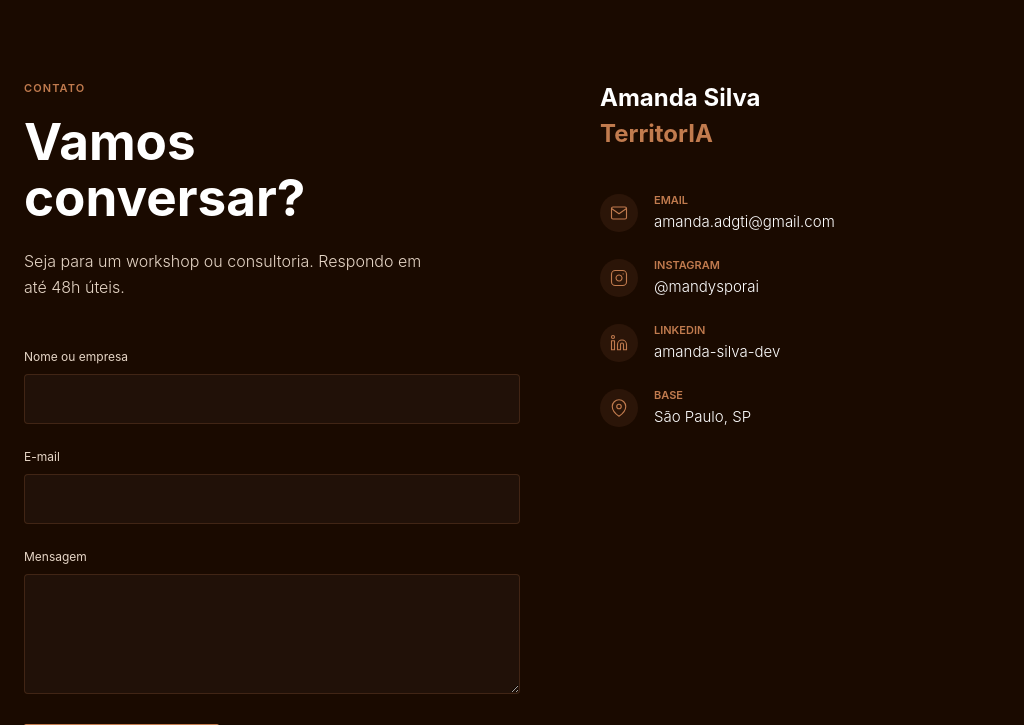
Test case: Componente Contato › deve enviar o formulário com sucesso e mostrar mensagem de agradecimento
Agora que adicionamos id e htmlFor, o Testing Library encontra os campos pelo Label!
In the field labelled "Nome ou empresa": (272, 399) [24,374,520,424], type "Amanda Silva"
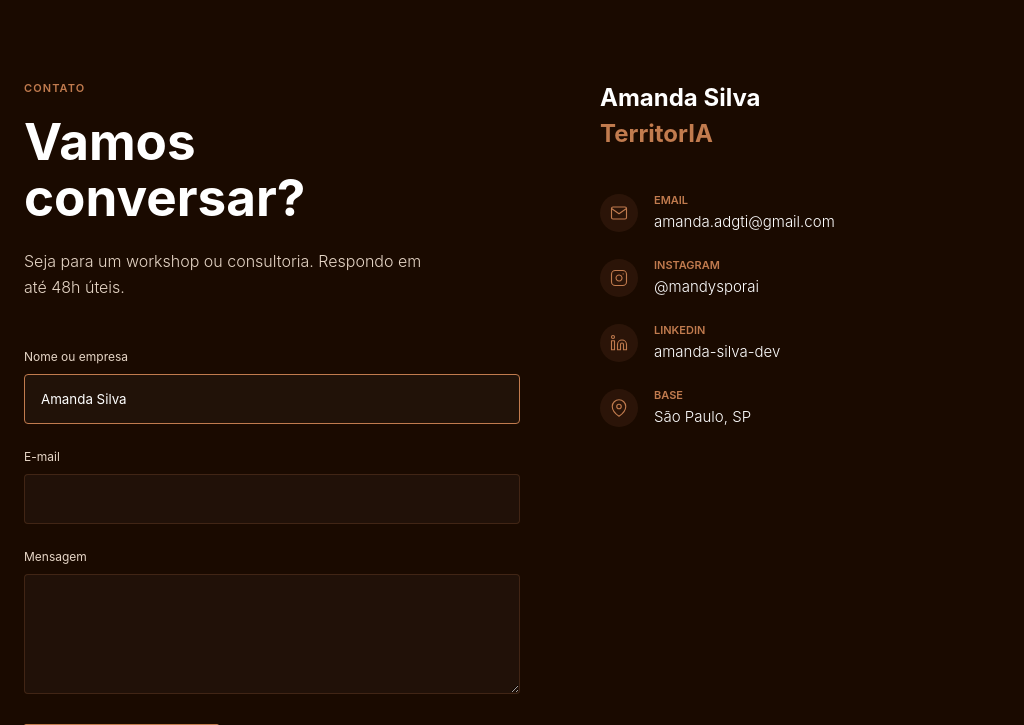
In the field labelled "E-mail": (272, 499) [24,474,520,524], type "amanda@exemplo.com"
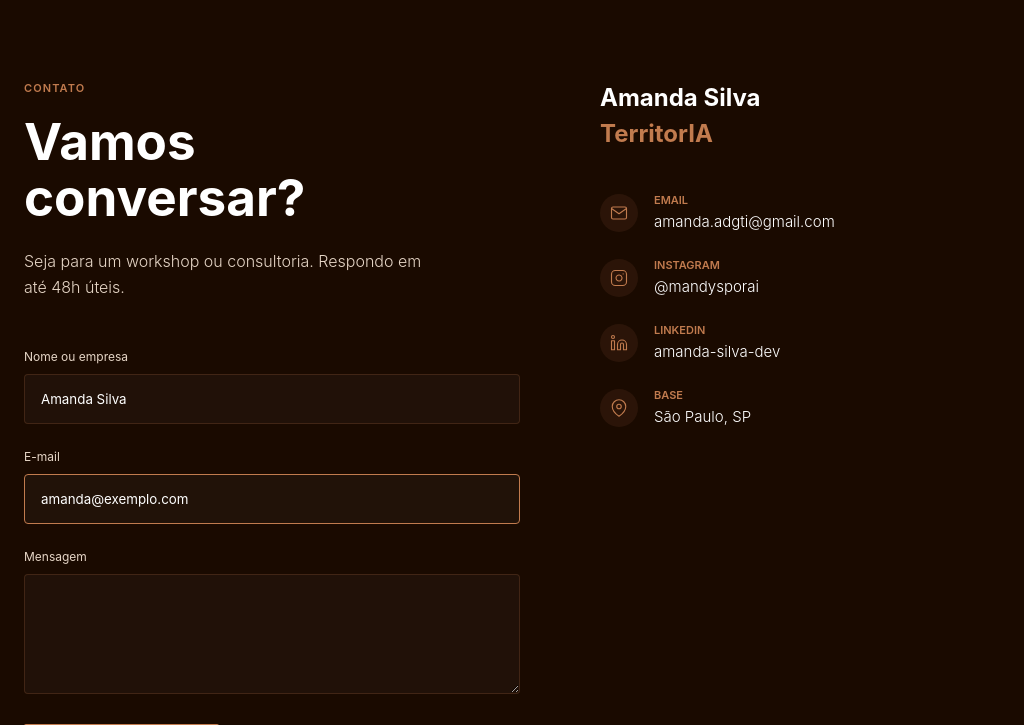
In the text box labelled "Mensagem": (272, 634) [24,574,520,694], type "Olá, gostaria de um workshop."
(page scrolled)
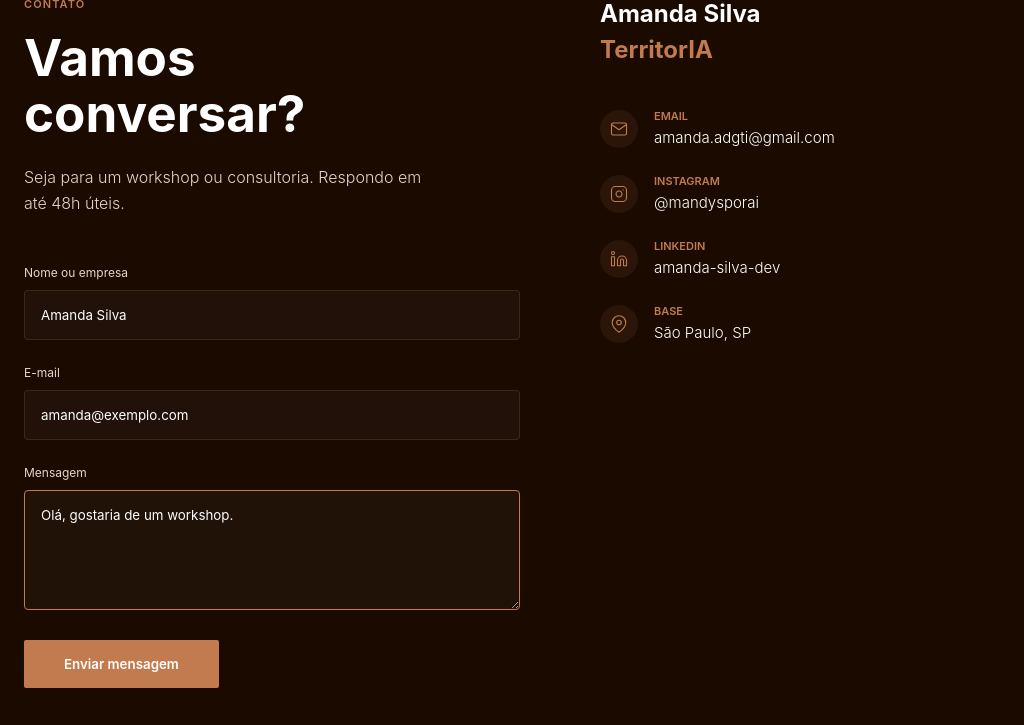
Click the button "Enviar mensagem": (121, 664) [24,640,219,688]
(page scrolled)
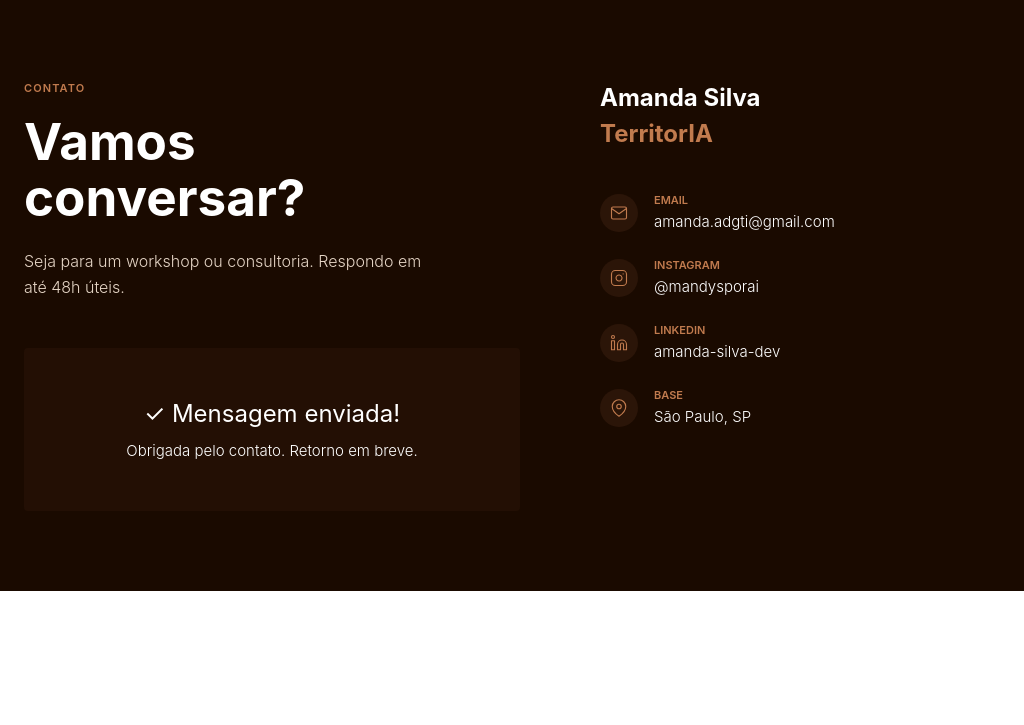
Now the text "✓ Mensagem enviada!" is shown, box [144,399,400,428]
Now the text "Obrigada pelo contato. Retorno em breve." is shown, box [126,441,418,460]
